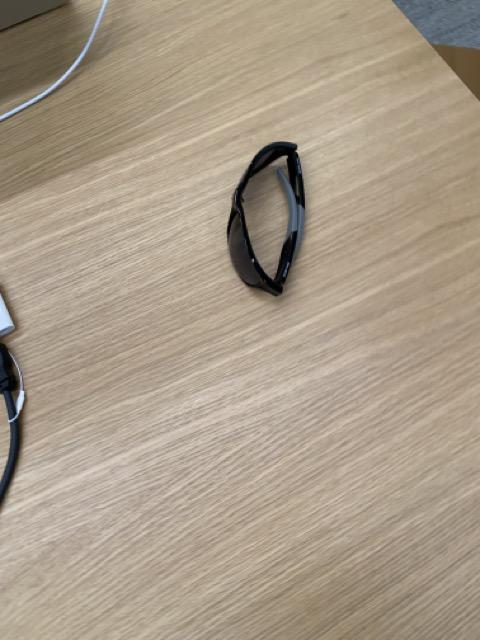Sunglasses: (227, 140, 306, 297)
